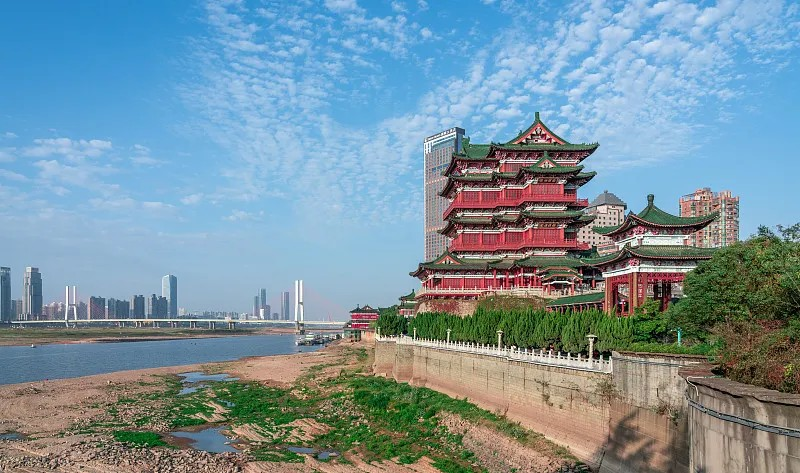Teng: (408, 110, 600, 299)
